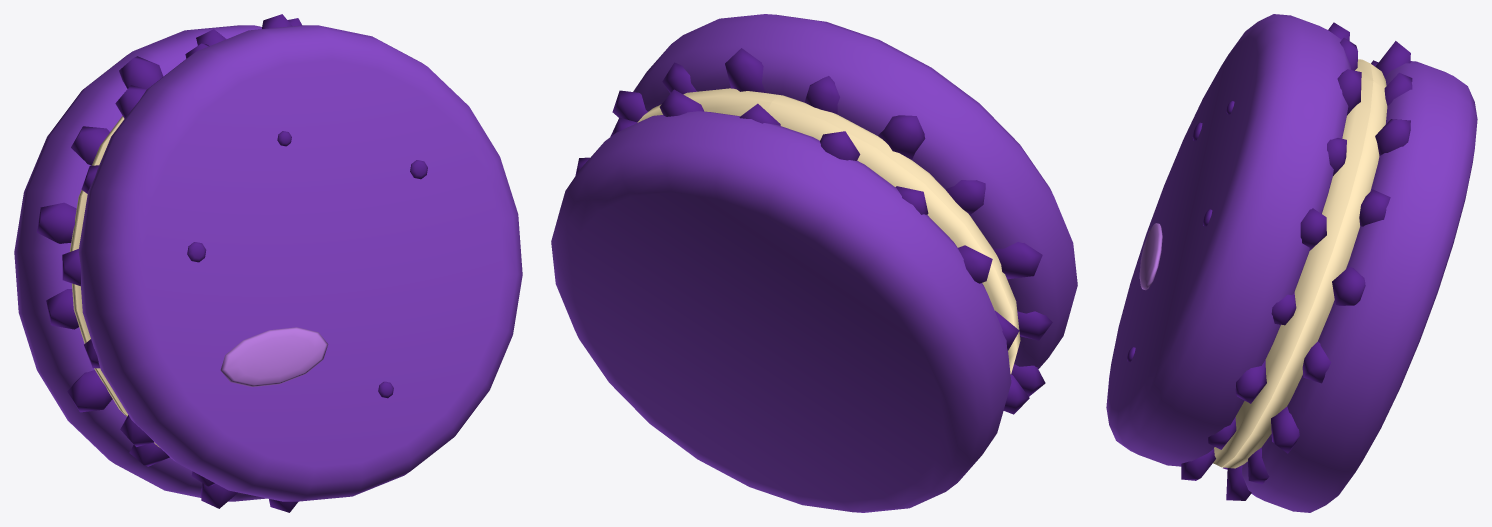
Rendered from macaron.glb.
3 views of the same model, side by side, from view 1: azimuth 30°, elevation 25°; view 2: azimuth 150°, elevation 25°; view 3: azimuth 270°, elevation 25° (orthographic). The views are drawn at different scales.
Parts seen in each view (by area): view 1: macaron; view 2: macaron; view 3: macaron.
Part boxes in pixels (x1,y1,x2,y2): macaron: (14,14,522,512); macaron: (551,14,1077,512); macaron: (1106,14,1477,512).
Size of the model in its own units: 0.9598 by 1 by 0.7415.
Materials: 1 (1 with a texture image).
